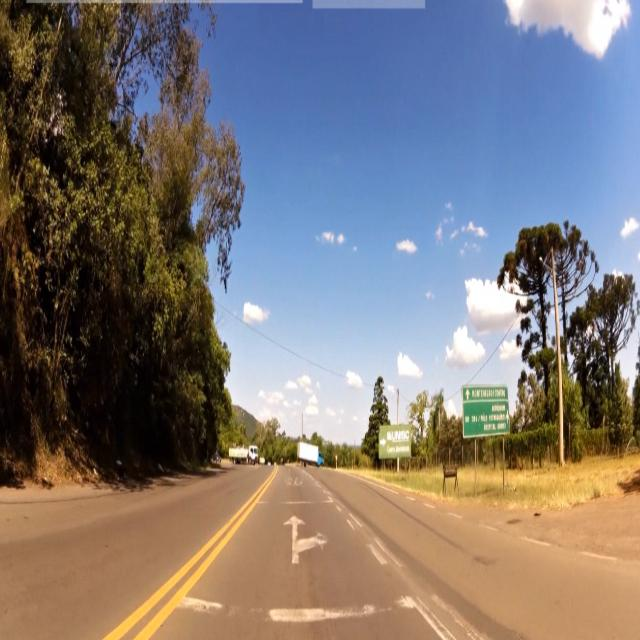I-4: (463, 385, 511, 436)
